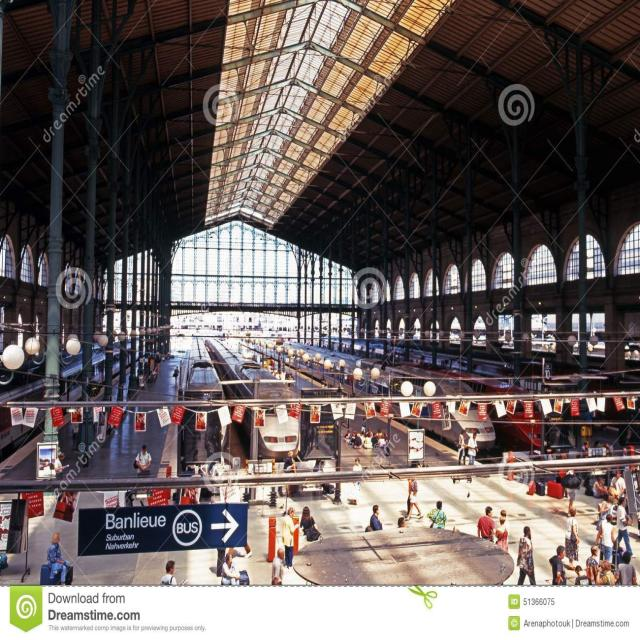body: (157, 559, 183, 638), (224, 500, 254, 560), (516, 525, 538, 586), (615, 496, 636, 558), (46, 532, 70, 586), (342, 425, 391, 450), (192, 419, 219, 462), (282, 507, 300, 571), (594, 512, 616, 563), (564, 508, 580, 570), (593, 494, 611, 548), (404, 478, 425, 522), (221, 552, 241, 594), (614, 550, 637, 586), (548, 544, 567, 586), (476, 505, 496, 543), (299, 506, 320, 542), (596, 492, 610, 543), (403, 478, 420, 518), (498, 509, 511, 559), (133, 444, 152, 478), (554, 452, 568, 498), (426, 500, 447, 530), (585, 544, 599, 586), (580, 439, 612, 457), (595, 560, 616, 586), (495, 516, 509, 554), (271, 547, 285, 585), (610, 469, 626, 502), (54, 451, 70, 482), (467, 430, 480, 466), (456, 428, 468, 466), (592, 476, 610, 499), (369, 504, 383, 532), (574, 564, 593, 584), (282, 450, 298, 473), (566, 488, 577, 518), (618, 447, 629, 477), (394, 516, 408, 532), (351, 456, 363, 472), (547, 448, 557, 463), (353, 432, 362, 448), (173, 365, 180, 385), (370, 432, 378, 448), (408, 460, 422, 468), (362, 524, 374, 533), (362, 416, 366, 427)
